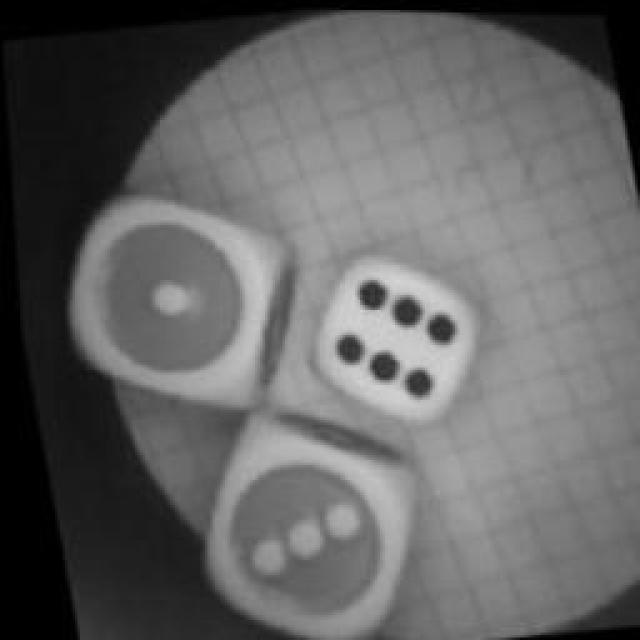dice_1: (31, 168, 326, 430)
dice_3: (162, 389, 438, 639)
dice_6: (278, 234, 508, 438)
